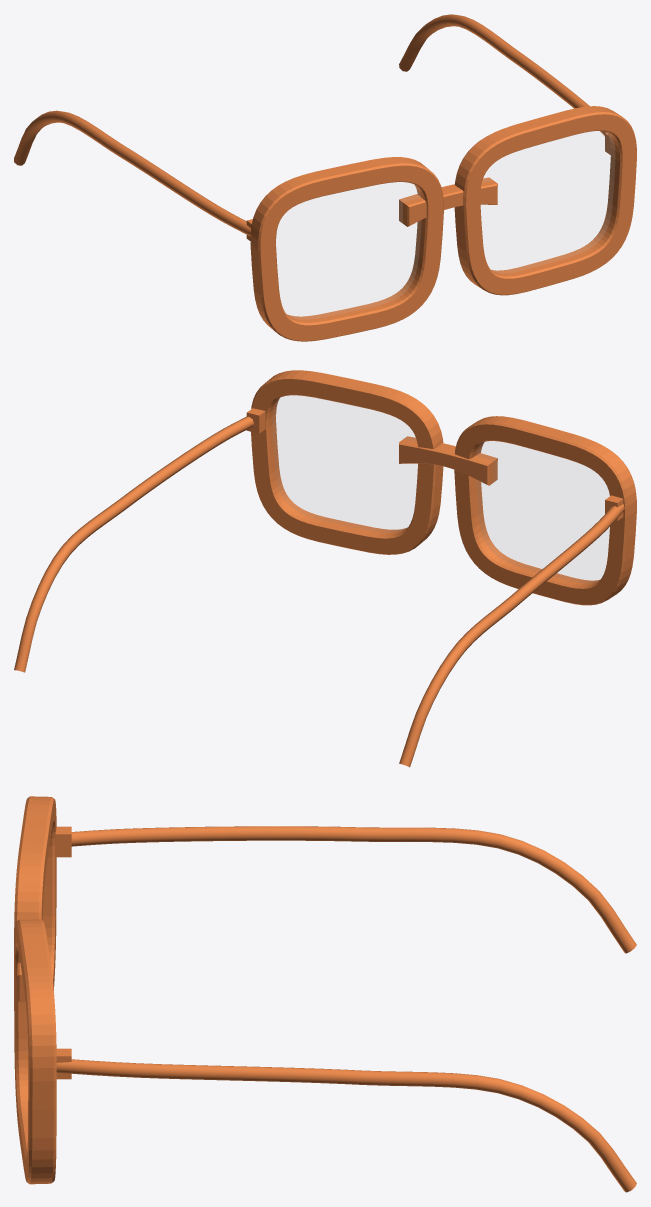
File: BM-K04_Zip_Tangerine.glb
3 views of the same model, one above another, from view 1: azimuth 30°, elevation 25°; view 2: azimuth 150°, elevation 25°; view 3: azimuth 270°, elevation 25° (orthographic). The views are drawn at different scales.
Visible parts, largest first — view 1: Zip_Tangerine_Acetate, Zip_Tangerine_Lenses; view 2: Zip_Tangerine_Acetate, Zip_Tangerine_Lenses; view 3: Zip_Tangerine_Acetate.
Part boxes in pixels (<box>): Zip_Tangerine_Acetate: <box>14,14,636,341</box>; Zip_Tangerine_Lenses: <box>276,131,614,318</box>; Zip_Tangerine_Acetate: <box>14,370,636,767</box>; Zip_Tangerine_Lenses: <box>273,396,609,582</box>; Zip_Tangerine_Acetate: <box>14,796,636,1192</box>.
Size of the model in its own units: 0.1313 by 0.0502 by 0.1375.
